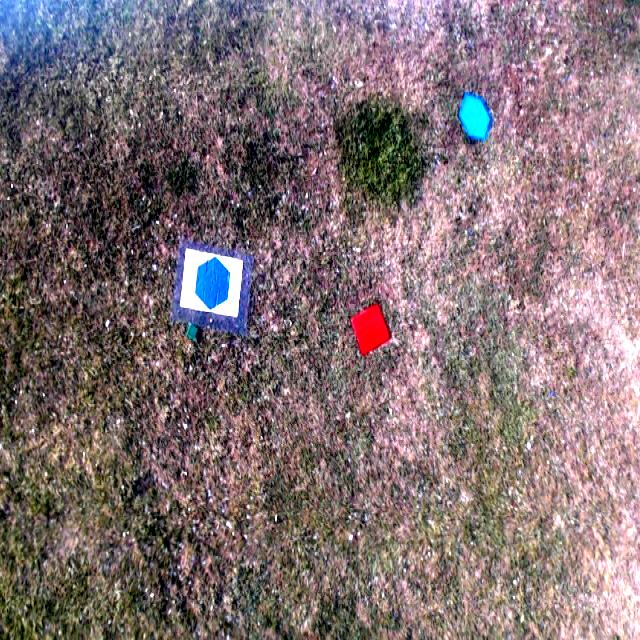blue_hexagon: (194, 255, 231, 312), (457, 92, 493, 140)
red_square: (352, 302, 391, 356)
